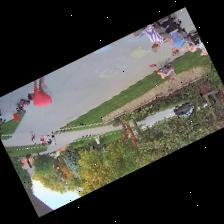person: (27, 77, 51, 105), (139, 27, 162, 52), (163, 31, 181, 55), (149, 63, 175, 79), (182, 41, 208, 55), (31, 131, 35, 144), (51, 131, 55, 143), (133, 29, 140, 35), (46, 135, 50, 143)
